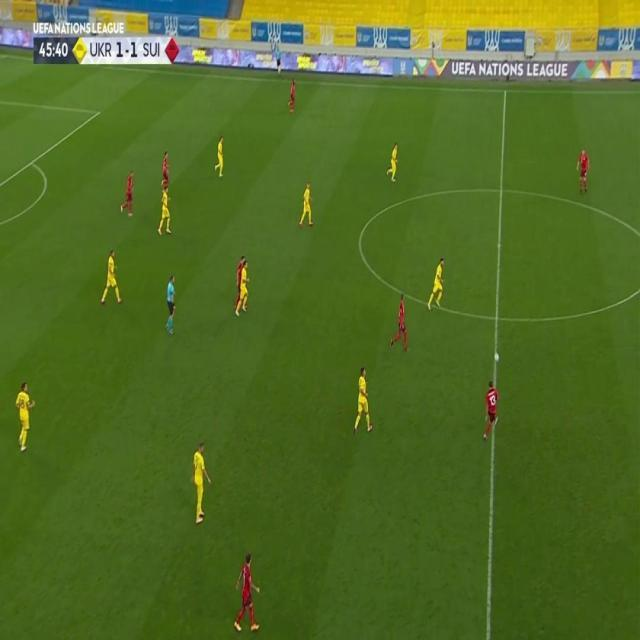ball: (494, 351, 500, 362)
player: (232, 550, 262, 632), (190, 441, 212, 524), (14, 379, 37, 452), (352, 366, 373, 436), (100, 248, 123, 306), (389, 293, 410, 352), (426, 256, 447, 311), (482, 380, 500, 444), (233, 254, 250, 318), (156, 185, 173, 236), (298, 181, 315, 228), (119, 170, 135, 217), (575, 147, 590, 194), (385, 141, 401, 182), (213, 133, 226, 178), (159, 150, 171, 186), (287, 78, 297, 113)
referee: (164, 274, 177, 334), (272, 40, 282, 76)
